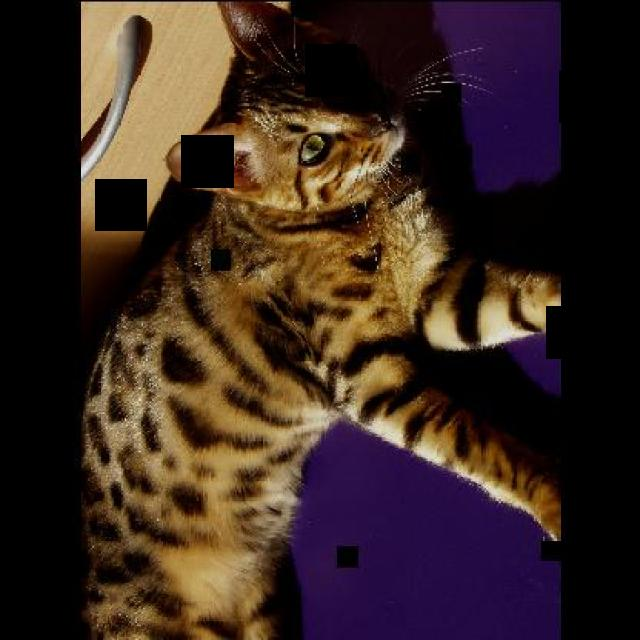unauthorized: (76, 0, 561, 638)
